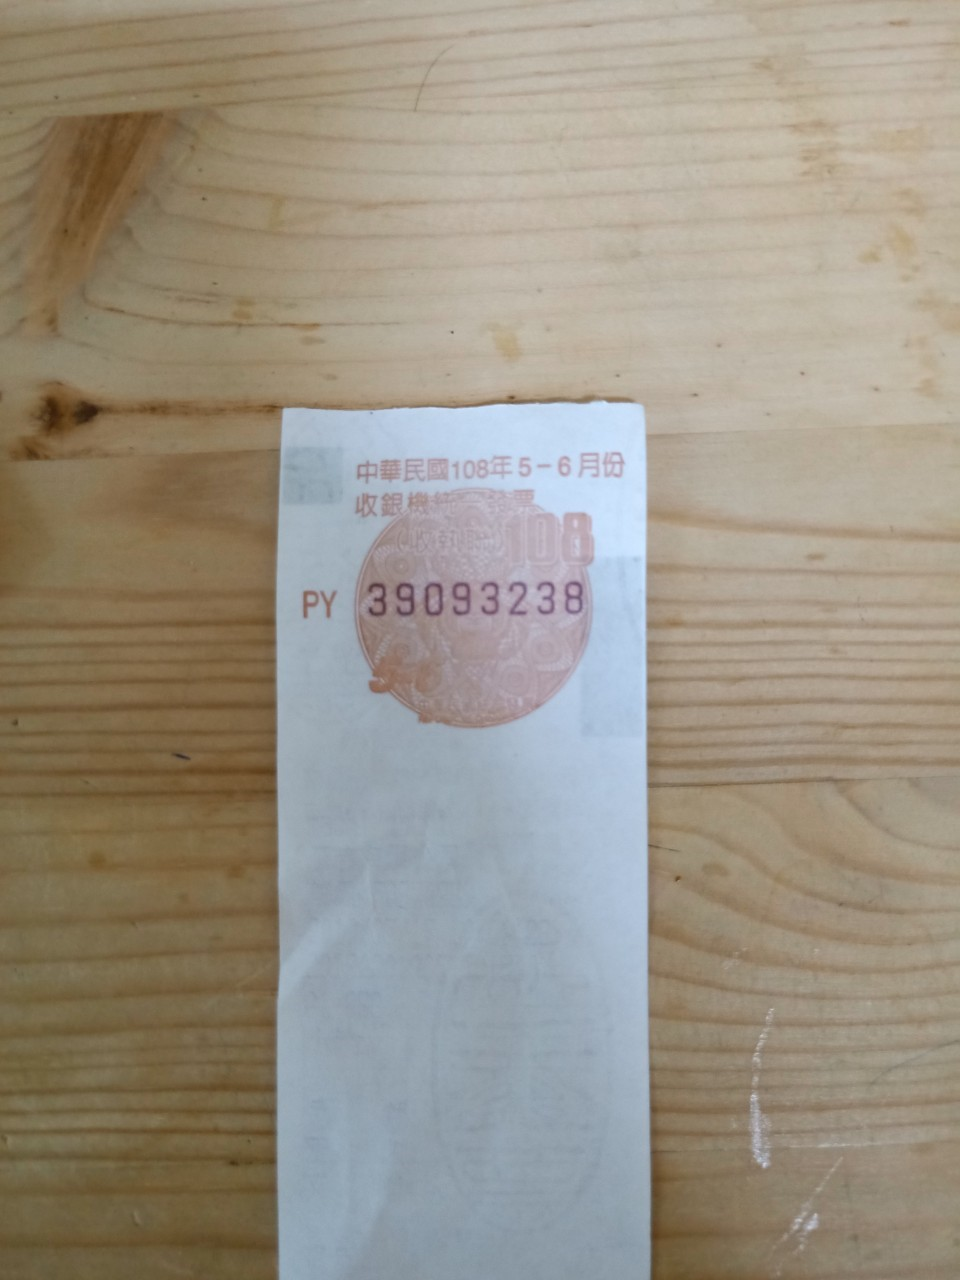Date_Old: (451, 442, 627, 492)
Number_Old: (365, 573, 587, 618)
